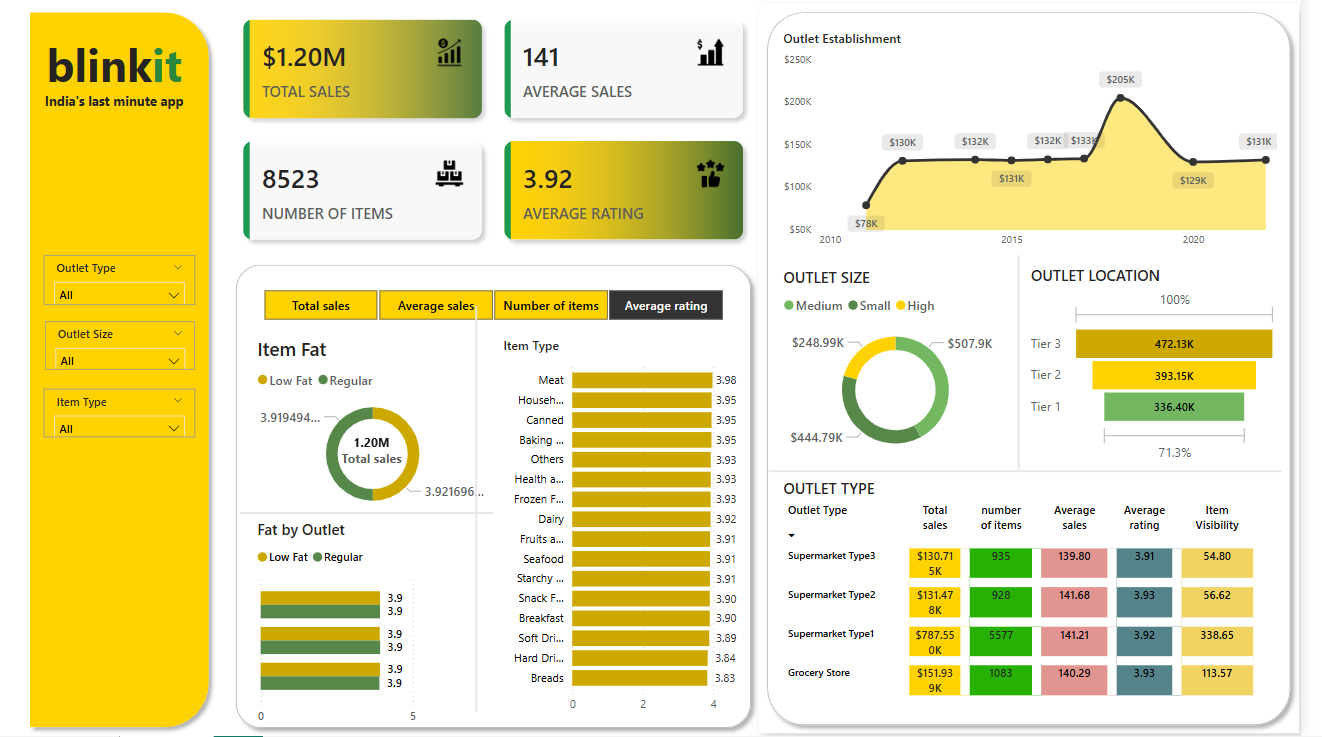

What the dashboard file says about the page in this screenshot:
{"tool":"powerbi","page":{"name":"Page 1","canvas":[1400,800],"ordinal":0},"visuals":[{"type":"shape","box":[28.5,15,210.1,785],"z":0},{"type":"textbox","box":[42,42,172.6,81],"z":1000},{"type":"textbox","box":[42,105.1,172.6,34.5],"z":2000},{"type":"cardVisual","fields":{"Data":["BlinkIT Grocery Data.Total sales","BlinkIT Grocery Data.Average sales","BlinkIT Grocery Data.number of rows","BlinkIT Grocery Data.average rating"]},"box":[249.1,15,570.3,270.2],"z":3000},{"type":"shape","box":[249.1,285.2,570.3,514.8],"z":4000},{"type":"donutChart","title":"Item Fat","fields":{"Y":["BlinkIT Grocery Data.average rating"],"Category":["BlinkIT Grocery Data.Item Fat Content"]},"box":[276.2,370.7,258.1,196.6],"z":5000},{"type":"slicer","fields":{"Values":["Metrics.Metrics"]},"box":[262.7,315.2,541.8,45],"z":6000},{"type":"cardVisual","fields":{"Data":["BlinkIT Grocery Data.Total sales"]},"box":[353.9,443.7,100.5,99.2],"z":7000},{"type":"clusteredBarChart","title":"Fat by Outlet","fields":{"Y":["BlinkIT Grocery Data.average rating"],"Category":["BlinkIT Grocery Data.Outlet Location Type"],"Series":["BlinkIT Grocery Data.Item Fat Content"]},"box":[276.2,567.3,220.6,229.6],"z":8000},{"type":"shape","box":[262.7,555.3,271.7,12],"z":9000},{"type":"shape","box":[509.4,339.1,13.4,434.3],"z":10000},{"type":"barChart","title":"Item Type","fields":{"Y":["BlinkIT Grocery Data.average rating"],"Category":["BlinkIT Grocery Data.Item Type"]},"box":[540.3,370.7,264.2,412.7],"z":11000},{"type":"shape","box":[819.5,14.7,579.3,782.7],"z":12000},{"type":"lineChart","title":"Outlet Establishment","fields":{"Category":["BlinkIT Grocery Data.Outlet Establishment Year"],"Y":["BlinkIT Grocery Data.Total sales"]},"box":[840.2,42.7,539.5,241.7],"z":13000},{"type":"shape","box":[829.9,510,549.8,13.3],"z":14000},{"type":"donutChart","title":"OUTLET SIZE","fields":{"Y":["BlinkIT Grocery Data.Total sales"],"Category":["BlinkIT Grocery Data.Outlet Size"]},"box":[840.5,296.2,250.7,214.5],"z":15000},{"type":"funnel","title":"OUTLET LOCATION","fields":{"Y":["Sum(BlinkIT Grocery Data.Sales)"],"Category":["BlinkIT Grocery Data.Outlet Location Type"]},"box":[1105.5,294.8,274.2,215.2],"z":16000},{"type":"shape","box":[1090.8,284.5,13.3,232.9],"z":17000},{"type":"pivotTable","title":"OUTLET TYPE","fields":{"Rows":["BlinkIT Grocery Data.Outlet Type"],"Values":["BlinkIT Grocery Data.Total sales","BlinkIT Grocery Data.number of rows","BlinkIT Grocery Data.Average sales","BlinkIT Grocery Data.average rating","Sum(BlinkIT Grocery Data.Item Visibility)"]},"box":[840.2,523.3,539.5,250.6],"z":18000},{"type":"slicer","fields":{"Values":["BlinkIT Grocery Data.Outlet Type"]},"box":[52.3,284.2,162.2,53.6],"z":19000},{"type":"slicer","fields":{"Values":["BlinkIT Grocery Data.Outlet Size"]},"box":[53.6,355.2,160.9,52.3],"z":20000},{"type":"slicer","fields":{"Values":["BlinkIT Grocery Data.Item Type"]},"box":[52.3,427.6,162.2,52.3],"z":21000}]}

Visuals, with their boxes in screenshot pixels (x1, y1, x2, y2), scaled from the page's 1400x800 canvas onto the 1322x737 screenshot:
shape: bbox(27, 14, 225, 736)
textbox: bbox(40, 39, 203, 113)
textbox: bbox(40, 97, 203, 129)
cardVisual - BlinkIT Grocery Data.Total sales x BlinkIT Grocery Data.Average sales: bbox(235, 14, 774, 263)
shape: bbox(235, 263, 774, 736)
"Item Fat" donutChart: bbox(261, 342, 505, 523)
slicer - Metrics.Metrics: bbox(248, 290, 760, 332)
cardVisual - BlinkIT Grocery Data.Total sales: bbox(334, 409, 429, 500)
"Fat by Outlet" clusteredBarChart: bbox(261, 523, 469, 734)
shape: bbox(248, 512, 505, 523)
shape: bbox(481, 312, 494, 712)
"Item Type" barChart: bbox(510, 342, 760, 722)
shape: bbox(774, 14, 1321, 735)
"Outlet Establishment" lineChart: bbox(793, 39, 1303, 262)
shape: bbox(784, 470, 1303, 482)
"OUTLET SIZE" donutChart: bbox(794, 273, 1030, 470)
"OUTLET LOCATION" funnel: bbox(1044, 272, 1303, 470)
shape: bbox(1030, 262, 1043, 477)
"OUTLET TYPE" pivotTable: bbox(793, 482, 1303, 713)
slicer - BlinkIT Grocery Data.Outlet Type: bbox(49, 262, 203, 311)
slicer - BlinkIT Grocery Data.Outlet Size: bbox(51, 327, 203, 375)
slicer - BlinkIT Grocery Data.Item Type: bbox(49, 394, 203, 442)
